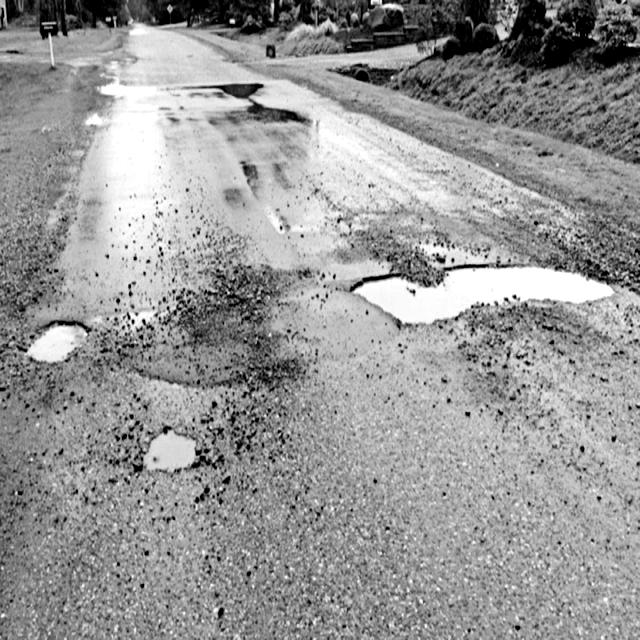pathole: (336, 215, 640, 361), (125, 392, 239, 485), (21, 302, 100, 370)
